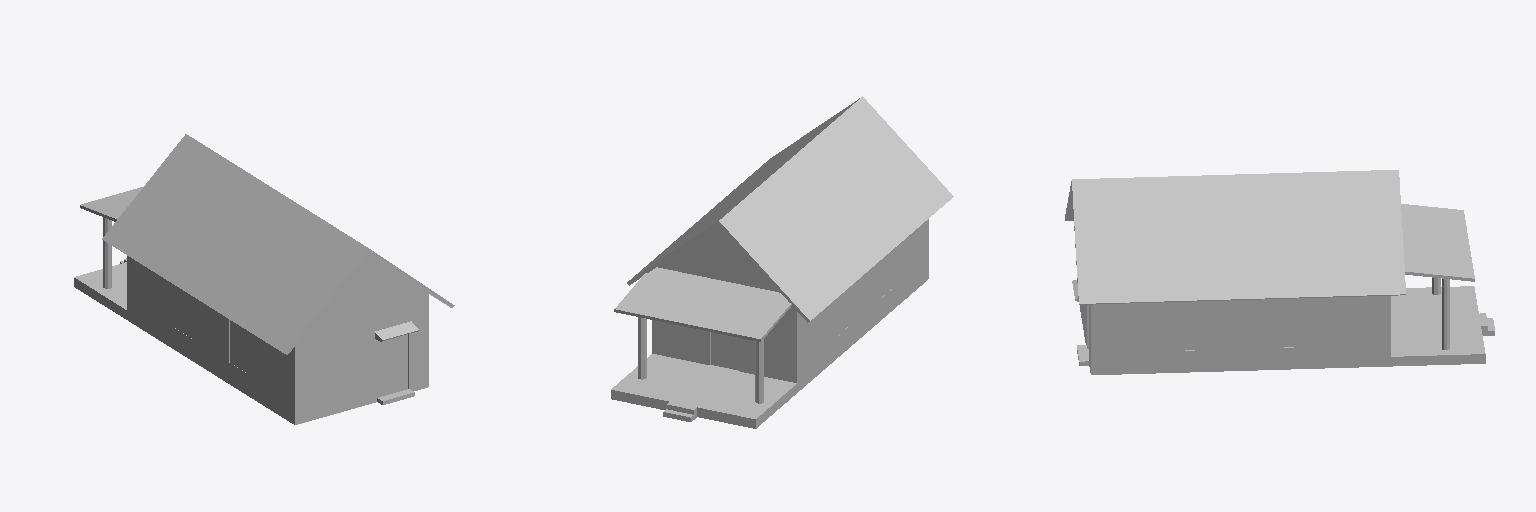
Rendered from house.obj.
3 views of the same model, side by side, from view 1: azimuth 30°, elevation 25°; view 2: azimuth 150°, elevation 25°; view 3: azimuth 270°, elevation 25° (orthographic).
Parts seen in each view (by area): view 1: farmhouse_obj; view 2: farmhouse_obj; view 3: farmhouse_obj.
Boxes of the visible parts, box(x1,y1,x2,y2) form: farmhouse_obj: box(74, 134, 454, 424); farmhouse_obj: box(611, 96, 953, 428); farmhouse_obj: box(1065, 170, 1494, 374).
Size of the model in its own units: 7.22 by 5.71 by 13.7.